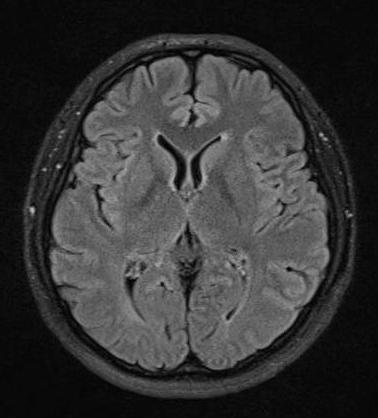Normal_Brain: (1, 1, 378, 417)
